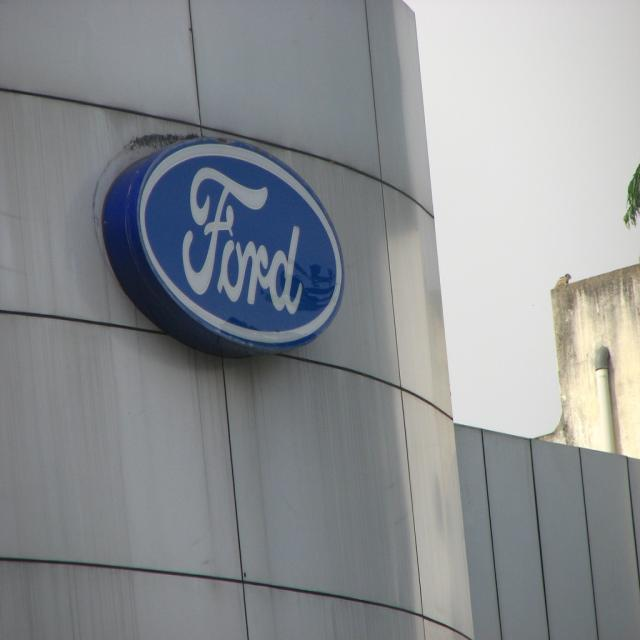ford: (130, 128, 349, 357)
